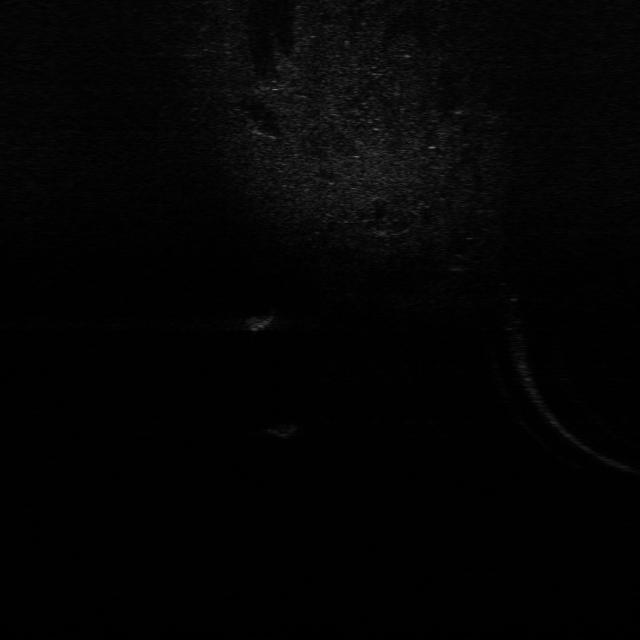cube: (263, 420, 299, 441)
square cage: (243, 306, 278, 332)
